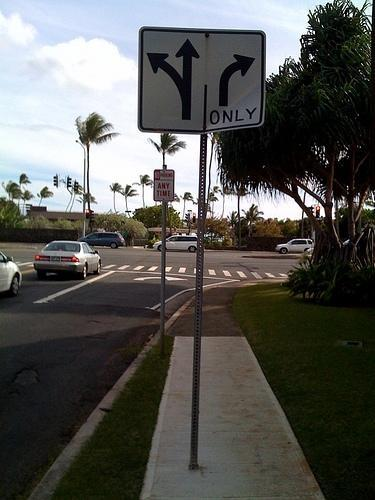car: (33, 241, 104, 280), (0, 250, 24, 298), (78, 232, 126, 250), (153, 234, 197, 252), (274, 238, 314, 254), (304, 247, 314, 254)
